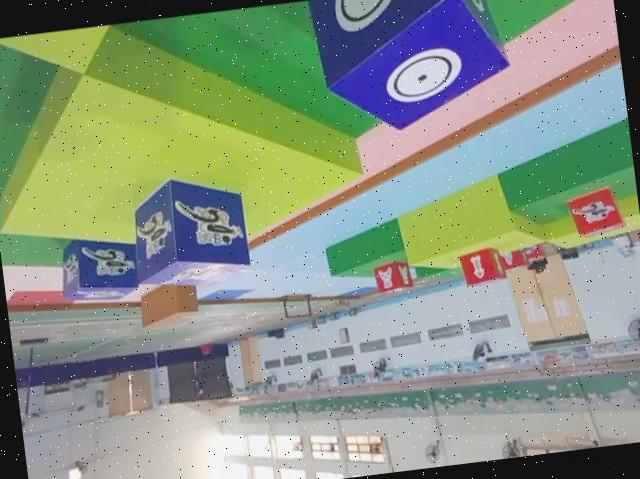R1 Blue: (126, 168, 253, 289), (53, 228, 140, 303)
R2 Real Blue: (306, 0, 511, 139)
